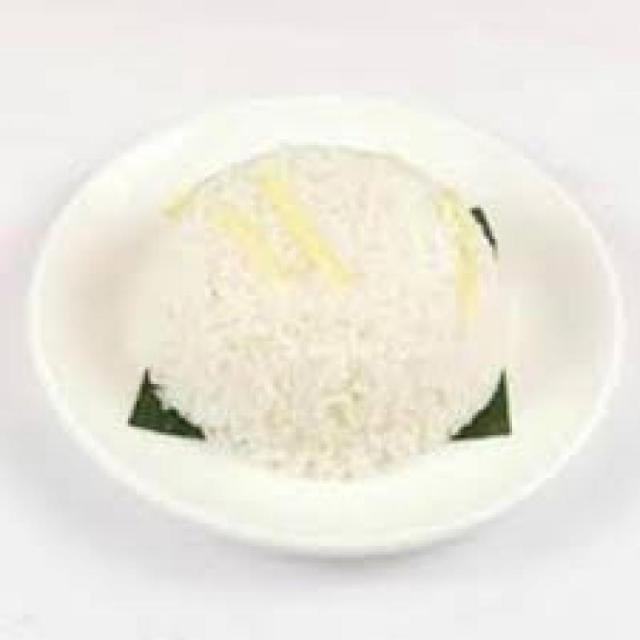nasi_putih: (138, 141, 506, 479)
